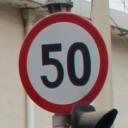speed_limit_50: (18, 12, 108, 114)
